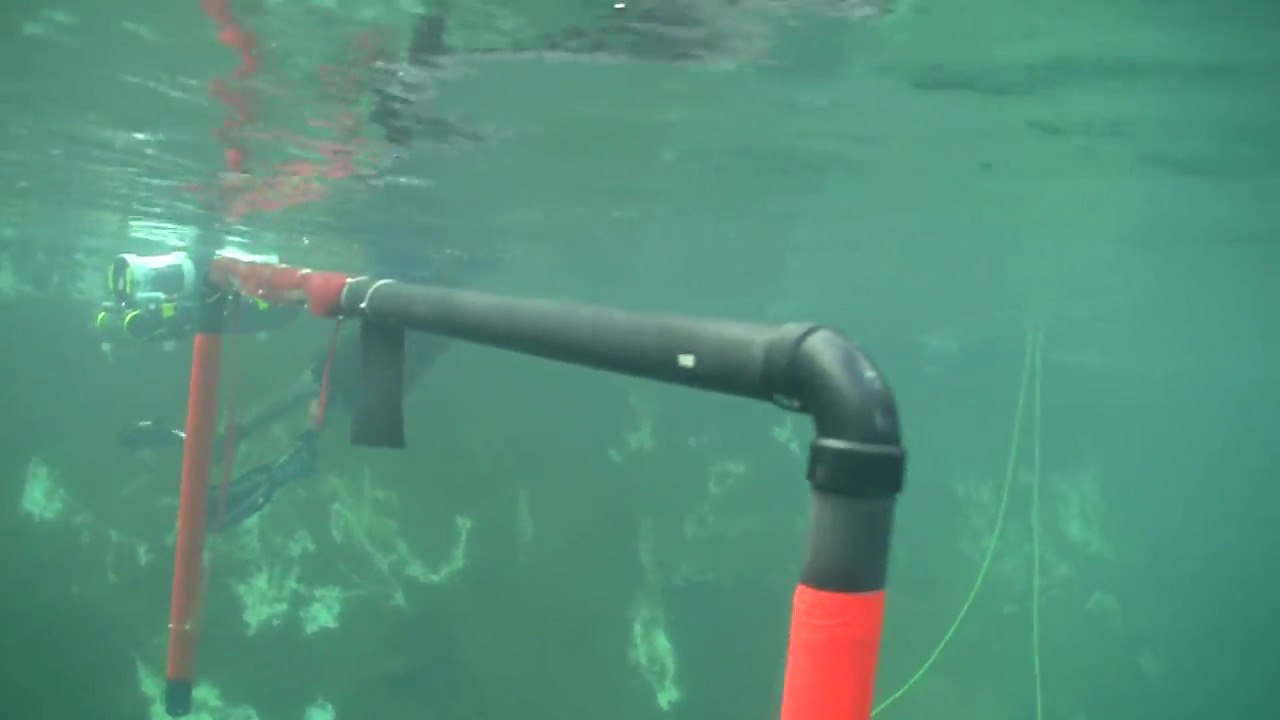gate: (144, 244, 911, 720)
